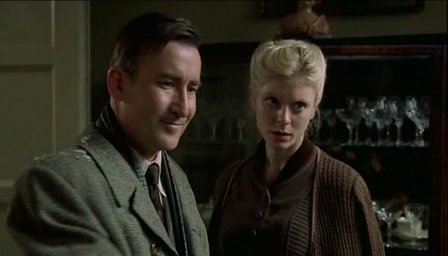face: (142, 60, 202, 150), (258, 86, 312, 149)
mcu: (1, 1, 448, 256)
person: (7, 14, 209, 255), (210, 38, 385, 256)
